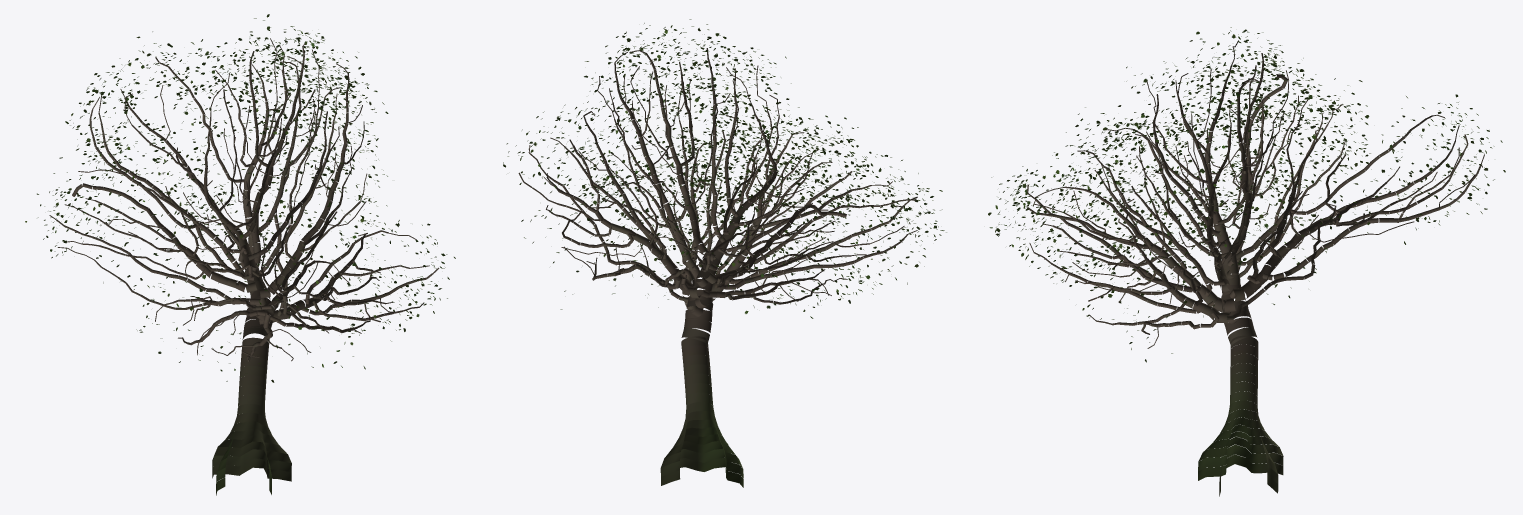
The model's file is SM_Tree_sycamore_1.glb.
3 views of the same model, side by side, from view 1: azimuth 30°, elevation 25°; view 2: azimuth 150°, elevation 25°; view 3: azimuth 270°, elevation 25° (orthographic). The views are drawn at different scales.
Visible parts, largest first — view 1: SM_Tree_sycamore_1; view 2: SM_Tree_sycamore_1; view 3: SM_Tree_sycamore_1.
Boxes of the visible parts, x1=… form: SM_Tree_sycamore_1: x1=25, y1=14, x2=455, y2=495; SM_Tree_sycamore_1: x1=503, y1=19, x2=946, y2=487; SM_Tree_sycamore_1: x1=988, y1=27, x2=1505, y2=496.
Bounding box in the file's own units: 12.15 × 14.47 × 14.92.
